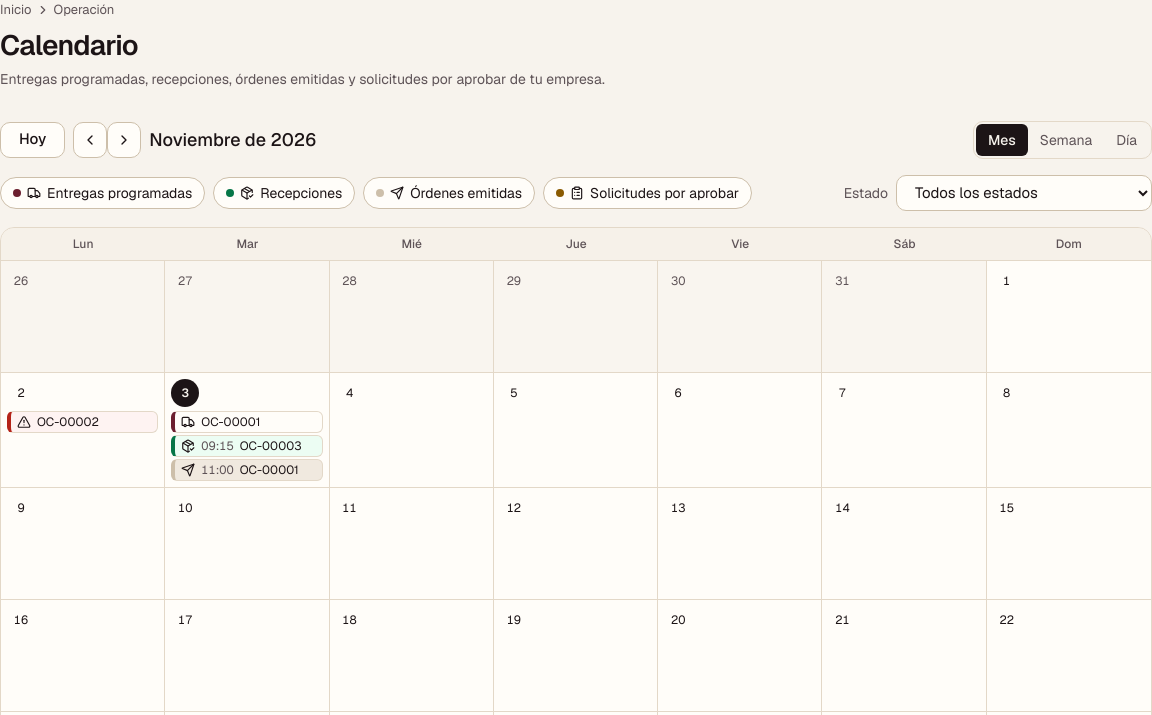
it: Calendario › pide el período visible, pinta los eventos y navega entre meses
Expected: the button named "Entrega OC-00001, entregas programadas, Programada (estimada), todo el día" is shown, top-left (171, 410), bottom-right (323, 432)
Expected: the button "09:15 OC-00003" is shown, top-left (171, 434), bottom-right (323, 456)
Click the button named "Período siguiente" at [124, 140], box top-left (107, 122), bottom-right (141, 158)
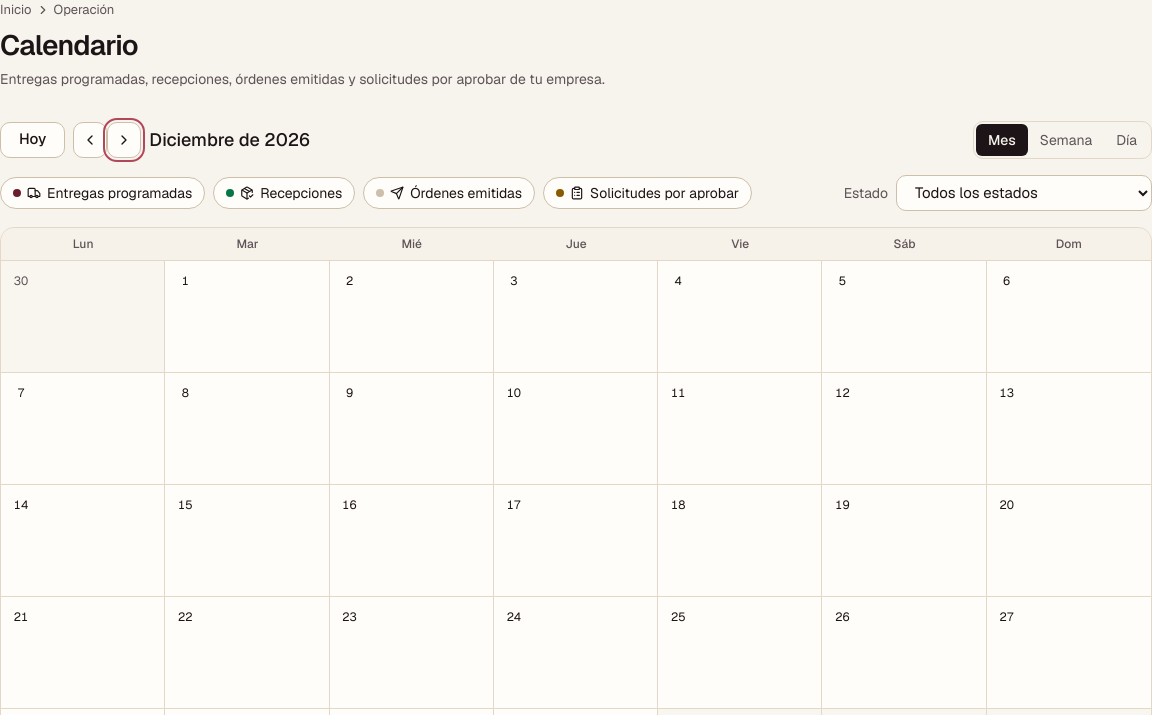
Click the radio button labelled "Semana" at [1066, 140], box top-left (1028, 124), bottom-right (1104, 156)
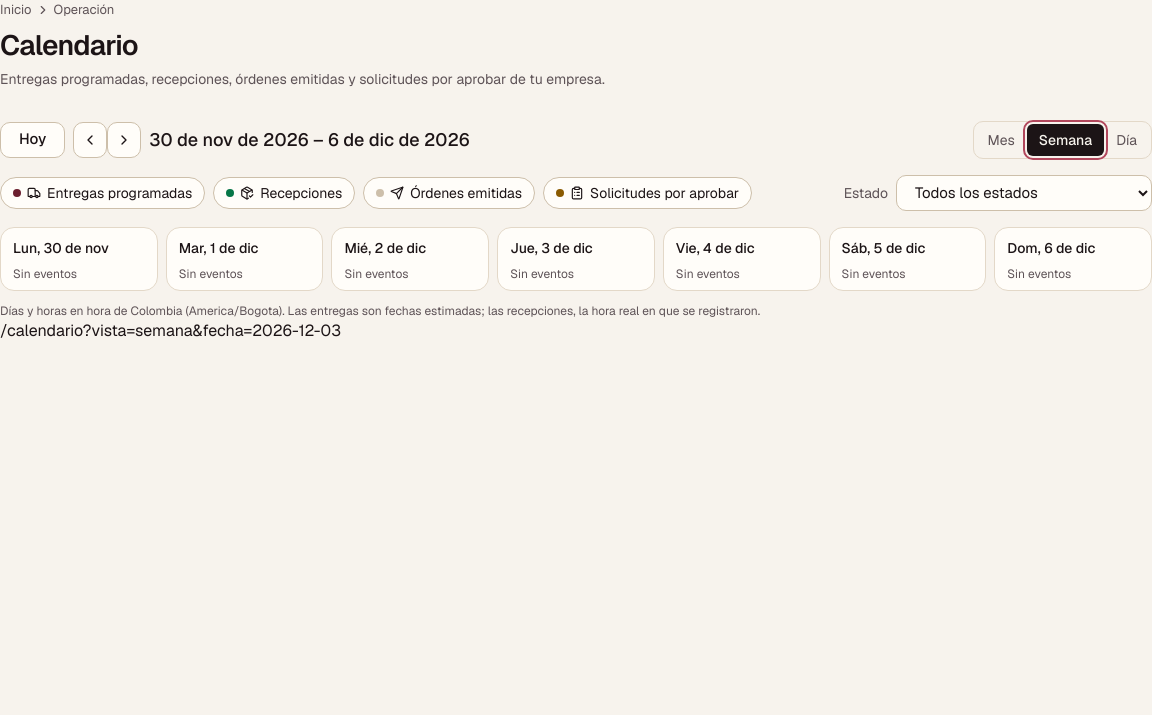
Click the button "Hoy" at [33, 140], box top-left (0, 122), bottom-right (65, 158)
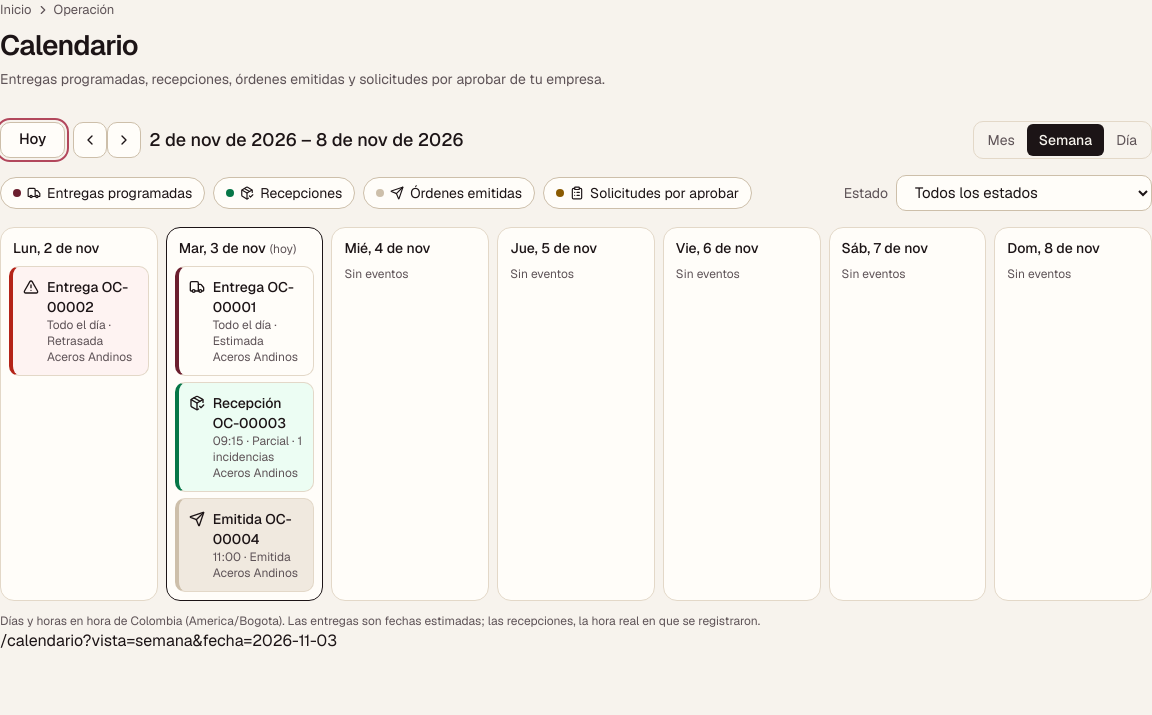
Click the radio button labelled "Día" at [1127, 140], box top-left (1104, 124), bottom-right (1149, 156)
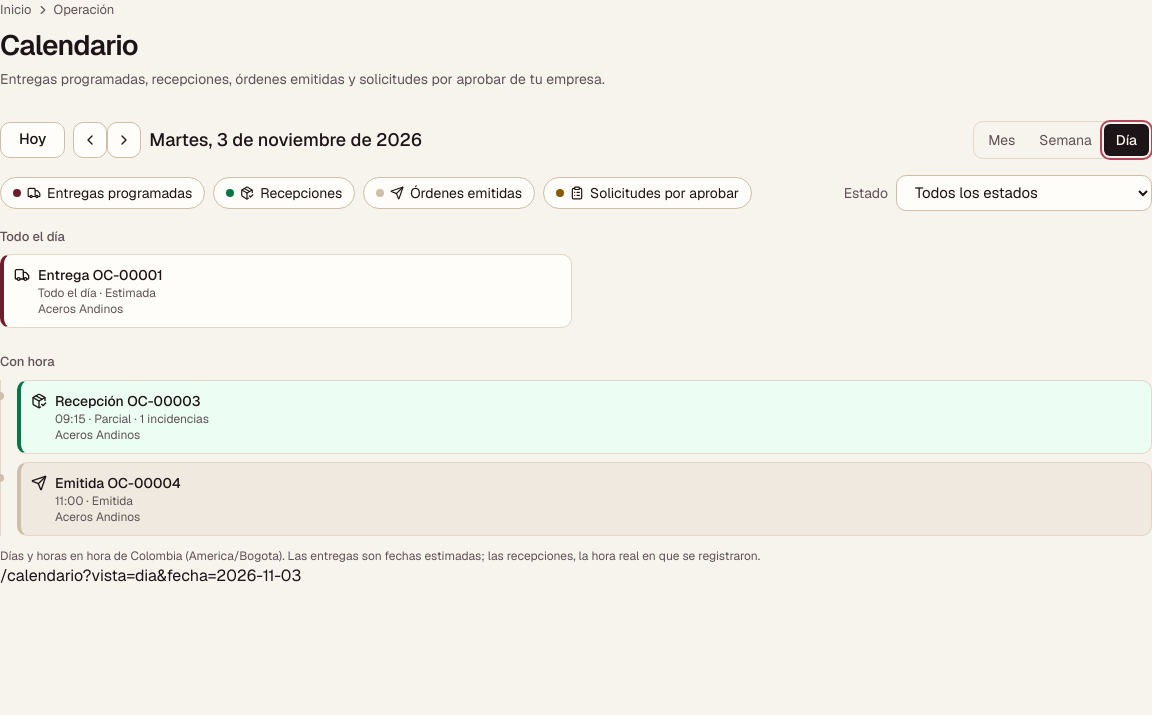
Expected: the heading "Todo el día" is shown, top-left (0, 228), bottom-right (65, 244)
Expected: the heading "Con hora" is shown, top-left (0, 353), bottom-right (54, 370)
